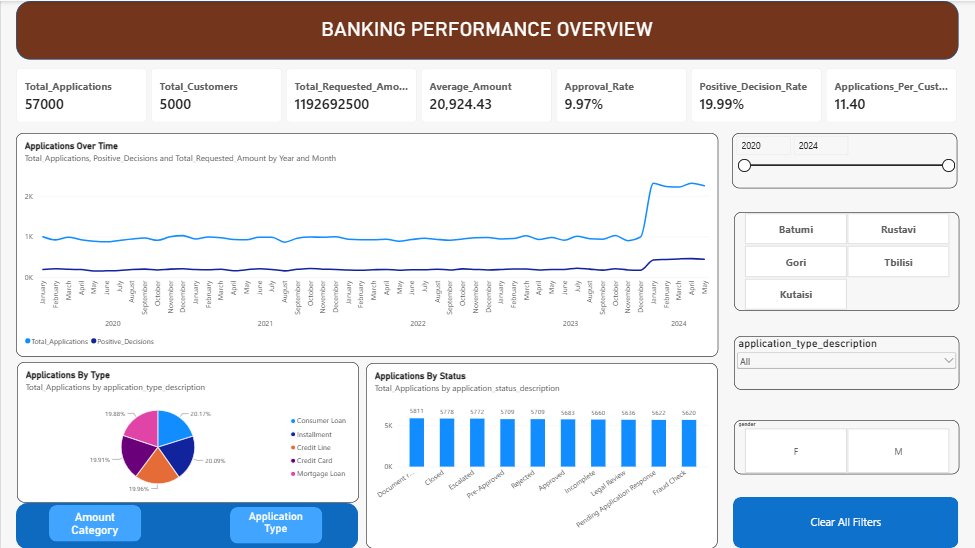

The page's visual inventory and layout, read from the dashboard file:
{"tool":"powerbi","page":{"name":"Overview","canvas":[1920,1080],"ordinal":0},"visuals":[{"type":"cardVisual","fields":{"Data":["Measures_Table.Total_Applications","Measures_Table.Total_Customers","Measures_Table.Total_Requested_Amount","Measures_Table.Average_Application_Amount","Measures_Table.Approval_Rate","Measures_Table.Positive_Decisoon_Rate","Measures_Table.Applications_Per_Customer"]},"box":[30,133,1855.6,107.3],"z":0},{"type":"shape","box":[29,0,1857.8,115.8],"z":1000},{"type":"textbox","title":"BANKING PERFORMANCE OVERVIEW","box":[94.4,32.2,1726.9,49.3],"z":2000},{"type":"lineChart","title":"Applications Over Time","fields":{"Y":["Measures_Table.Total_Applications","Measures_Table.Positive_Decisions"],"Category":["DimDate.Year","DimDate.Month"]},"box":[29.6,260.1,1383.5,441.5],"z":3000},{"type":"pieChart","title":"Applications By Type","fields":{"Category":["Fact_Applications.application_type_description"],"Y":["Measures_Table.Total_Applications"]},"box":[31,711.7,674.5,277.2],"z":4000},{"type":"clusteredColumnChart","title":"Applications By Status","fields":{"Category":["Fact_Applications.application_status_description"],"Y":["Measures_Table.Total_Applications"]},"box":[720,713.8,693.1,366.2],"z":5000},{"type":"slicer","title":"Applications By Type","fields":{"Values":["DimDate.Year"]},"box":[1441.6,259.6,444.1,109.4],"z":6000},{"type":"slicer","title":"Applications By Type","fields":{"Values":["Customers.city_name"]},"box":[1444.6,415.8,444.1,195.2],"z":7000},{"type":"slicer","title":"Applications By Type","fields":{"Values":["Fact_Applications.application_type_description"]},"box":[1444.6,660.2,444.1,106],"z":8000},{"type":"slicer","title":"Applications By Type","fields":{"Values":["Customers.gender"]},"box":[1444.6,825.8,444.1,107.3],"z":9000},{"type":"actionButton","box":[1442.6,977.5,444.4,100.7],"z":10000},{"type":"textbox","box":[99.3,99.3,126.2,109.7],"z":13000},{"type":"shape","box":[29,989,674.5,91],"z":13250},{"type":"actionButton","box":[451,997.2,182.1,72.4],"z":15000},{"type":"actionButton","box":[95.2,993.1,182.1,72.4],"z":17001},{"type":"textbox","title":"Amount Category","box":[128.3,1003.4,113.8,51.7],"z":17251},{"type":"textbox","title":"Application Type","box":[484.1,1003.4,113.8,62.1],"z":17501}]}

Visuals, with their boxes in screenshot pixels (x1, y1, x2, y2), scaled from the page's 1920x1080 canvas onto the 975x548 screenshot:
cardVisual - Measures_Table.Total_Applications x Measures_Table.Total_Customers: (left=15, top=67, right=958, bottom=122)
shape: (left=15, top=0, right=958, bottom=59)
"BANKING PERFORMANCE OVERVIEW" textbox: (left=48, top=16, right=925, bottom=41)
"Applications Over Time" lineChart: (left=15, top=132, right=718, bottom=356)
"Applications By Type" pieChart: (left=16, top=361, right=358, bottom=502)
"Applications By Status" clusteredColumnChart: (left=366, top=362, right=718, bottom=547)
"Applications By Type" slicer: (left=732, top=132, right=958, bottom=187)
"Applications By Type" slicer: (left=734, top=211, right=959, bottom=310)
"Applications By Type" slicer: (left=734, top=335, right=959, bottom=389)
"Applications By Type" slicer: (left=734, top=419, right=959, bottom=473)
actionButton: (left=733, top=496, right=958, bottom=547)
textbox: (left=50, top=50, right=115, bottom=106)
shape: (left=15, top=502, right=357, bottom=547)
actionButton: (left=229, top=506, right=321, bottom=543)
actionButton: (left=48, top=504, right=141, bottom=541)
"Amount Category" textbox: (left=65, top=509, right=123, bottom=535)
"Application Type" textbox: (left=246, top=509, right=304, bottom=541)
